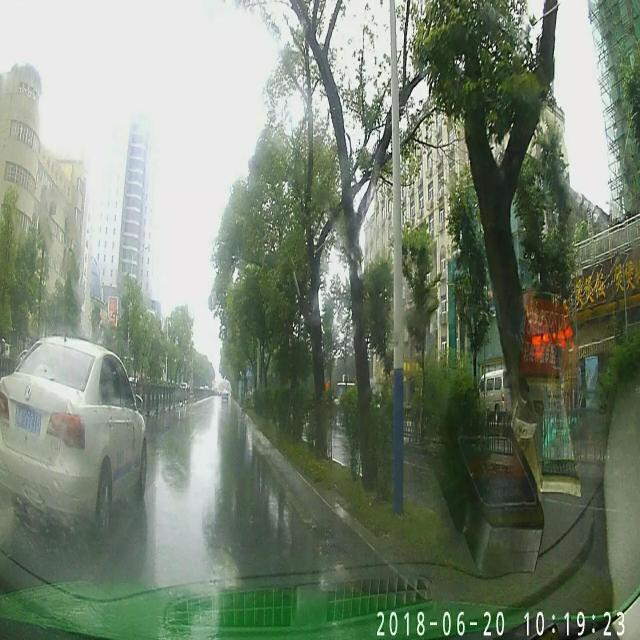car: (0, 336, 148, 527), (474, 366, 520, 422), (218, 390, 230, 402)
